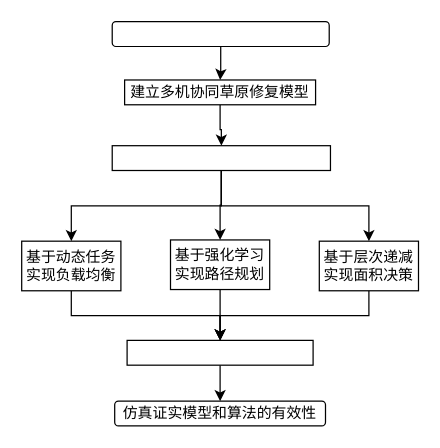
This 440x448 diagram has some shape labels left out. The centre of each missing label's shape, as x and y in pixels:
多无人机协同的草原修复问题: point 220,33
提出多无人机协同修复算法: point 219,352
考虑无人机能量受限和任务约束: point 220,157
